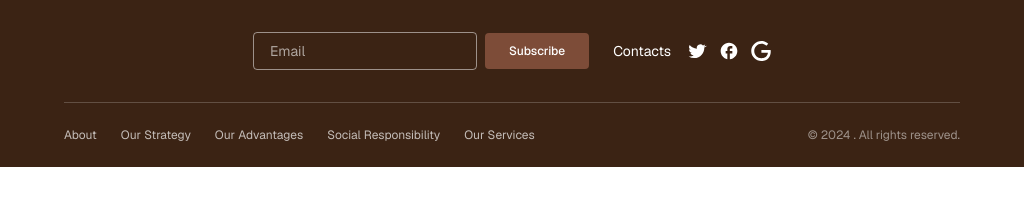
Test: Footer Subscription Form — Formik Validation › should show success state for a valid email
The image size is (1024, 208).
In the field with placeholder "Email": (365, 51) [253,32,477,70], type "valid@email.com"
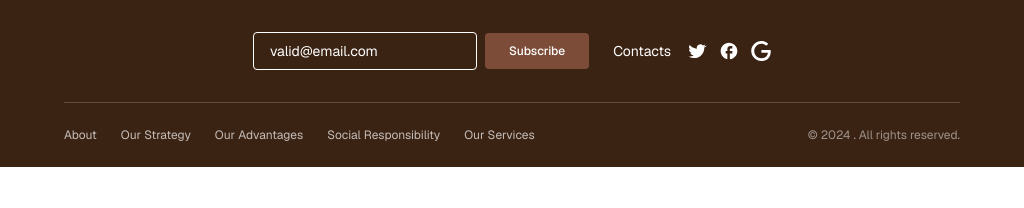
Click the button "Subscribe": (537, 51) [485,33,589,69]
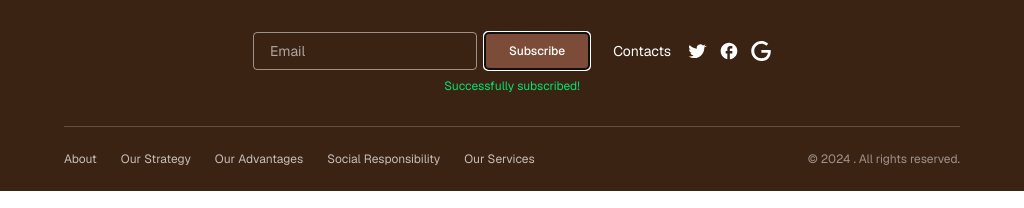
Result: the text "Successfully subscribed!" is shown at [444,78,580,94]
